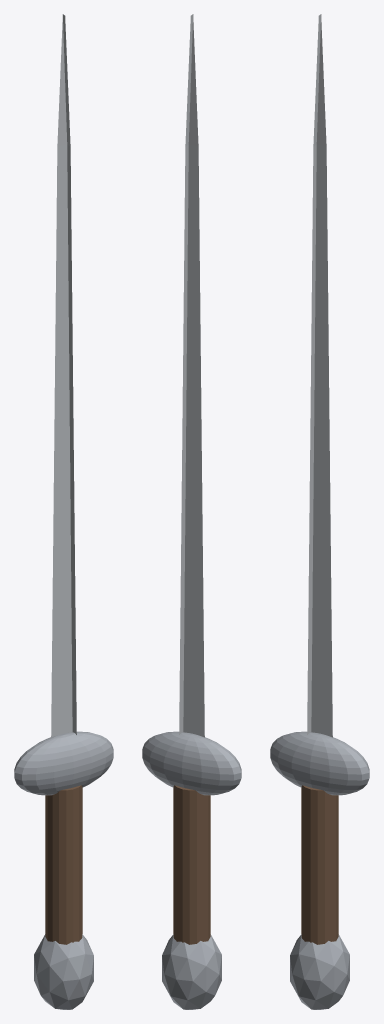
Rendered from silver_rapier.glb.
3 views of the same model, side by side, from view 1: azimuth 30°, elevation 25°; view 2: azimuth 150°, elevation 25°; view 3: azimuth 330°, elevation 25° (orthographic).
Visible parts, largest first — view 1: sword_0_0, sword_0_2, sword_0_1, sword_0_3; view 2: sword_0_0, sword_0_2, sword_0_1, sword_0_3; view 3: sword_0_0, sword_0_2, sword_0_1, sword_0_3.
Part boxes in pixels (x1=…): sword_0_0: x1=51, y1=14, x2=76, y2=737; sword_0_2: x1=45, y1=785, x2=82, y2=944; sword_0_1: x1=14, y1=731, x2=113, y2=795; sword_0_3: x1=34, y1=934, x2=93, y2=1009; sword_0_0: x1=179, y1=14, x2=204, y2=737; sword_0_2: x1=173, y1=785, x2=210, y2=944; sword_0_1: x1=142, y1=731, x2=241, y2=795; sword_0_3: x1=162, y1=934, x2=221, y2=1009; sword_0_0: x1=307, y1=14, x2=332, y2=737; sword_0_2: x1=301, y1=785, x2=338, y2=944; sword_0_1: x1=270, y1=731, x2=369, y2=795; sword_0_3: x1=290, y1=934, x2=349, y2=1009.
Bounding box in the file's own units: 0.4867 × 4.68 × 0.2687.
